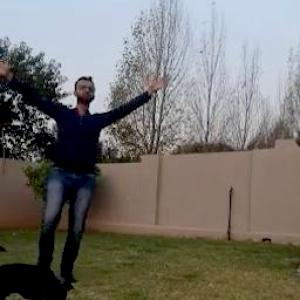takeoff: (0, 44, 173, 288)
